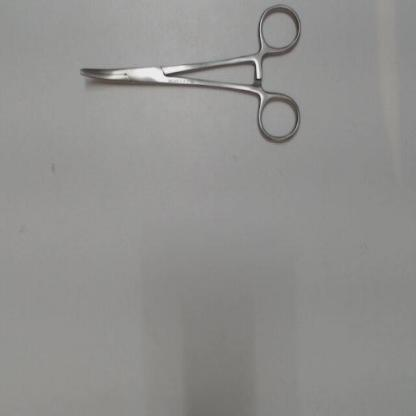Crile Artery Forceps: (75, 2, 311, 152)
